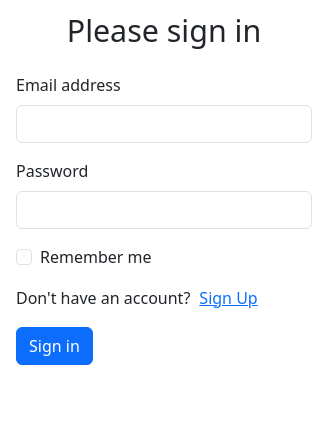
Test case: displays error message when email is not provided
Click the button "Sign in".
click(54, 346)  # box left=16, top=326, right=93, bottom=364
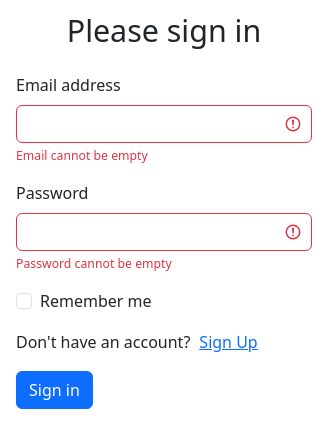
Now the text "Email cannot be empty" is shown, box left=16, top=146, right=148, bottom=164
